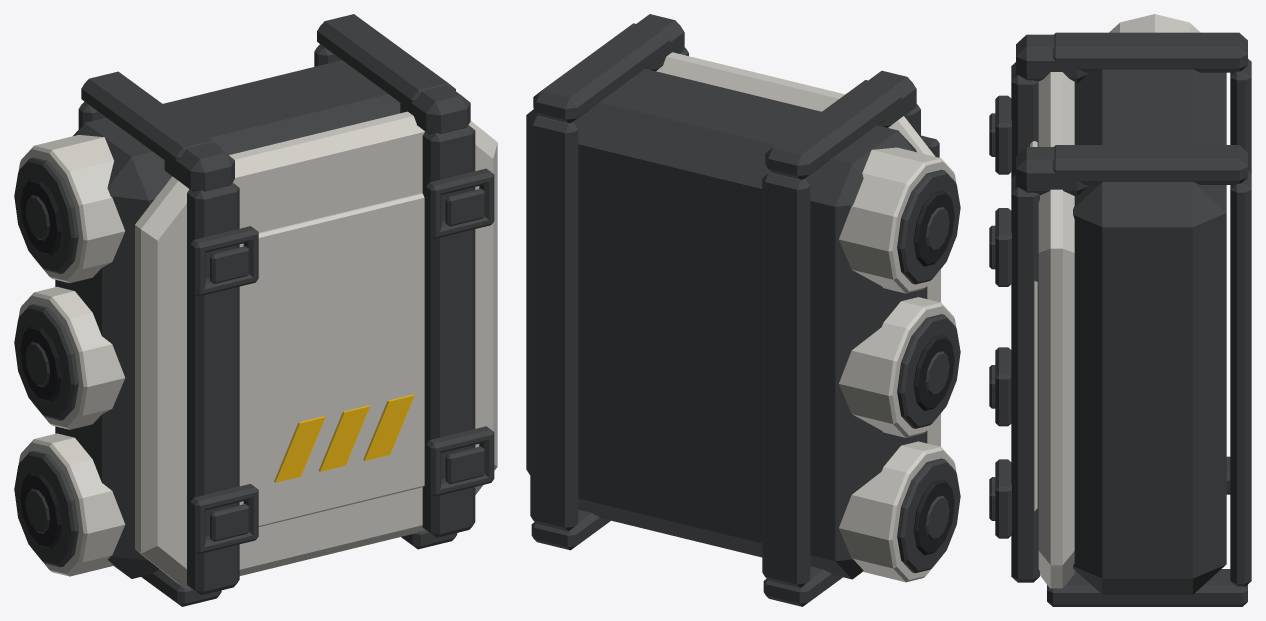
The model's file is 07_armor_patch_folded.fbx.
The picture shows the model from 3 angles, left to right: view 1: azimuth 30°, elevation 25°; view 2: azimuth 150°, elevation 25°; view 3: azimuth 270°, elevation 25°; orthographic projection. The views are drawn at different scales.
Parts seen in each view (by area): view 1: 07_armor_patch_folded; view 2: 07_armor_patch_folded; view 3: 07_armor_patch_folded.
Part boxes in pixels (bbox=[...]): 07_armor_patch_folded: bbox=[14, 14, 497, 606]; 07_armor_patch_folded: bbox=[526, 14, 960, 606]; 07_armor_patch_folded: bbox=[989, 14, 1251, 606].
Bounding box in the file's own units: 14.18 × 15.2 × 8.09.
